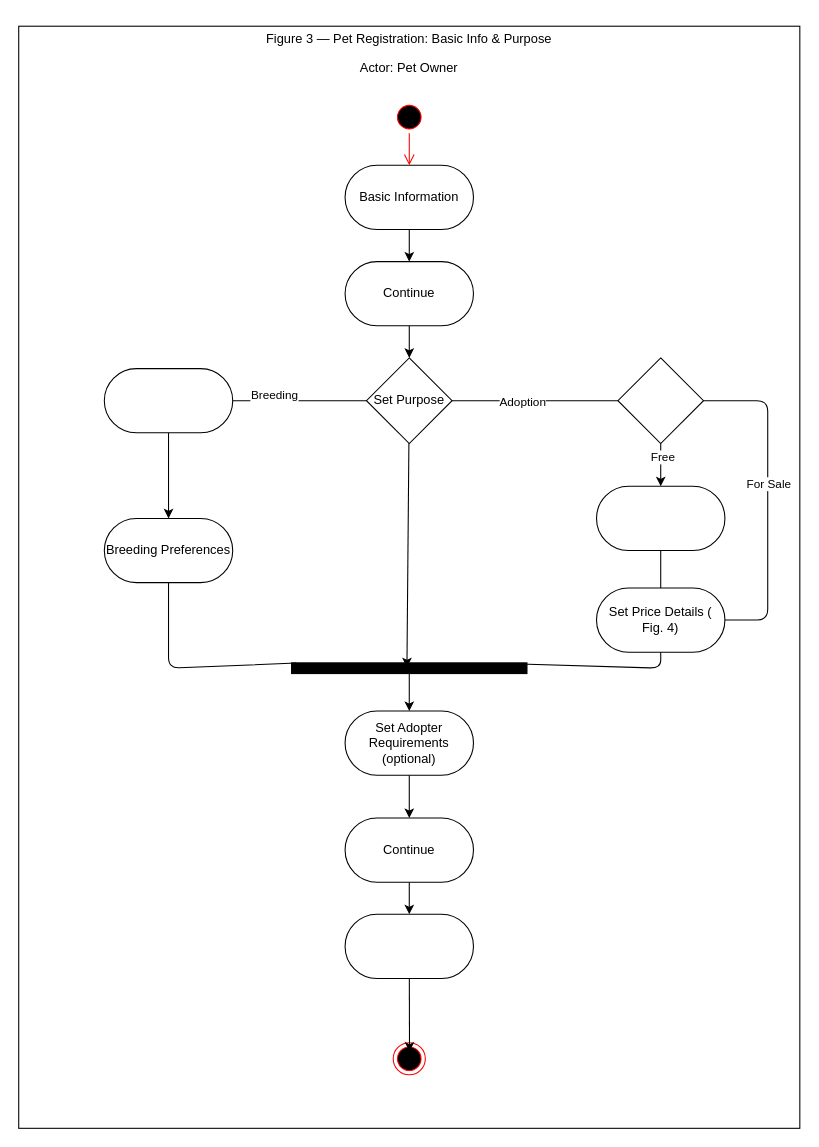
Image size: 819x1147. Some labels were removed from this diagram. The shapes that lost their labels are listed below. From the top down, each one's centre as x and y in pixels, then its label:
At point 168,400: "Breeding Selected".
At point 660,400: "Listing Type?".
At point 660,518: "Set Adoption Interview Questions".
At point 408,946: "Proceed to Health Documents (Fig. 5)".
